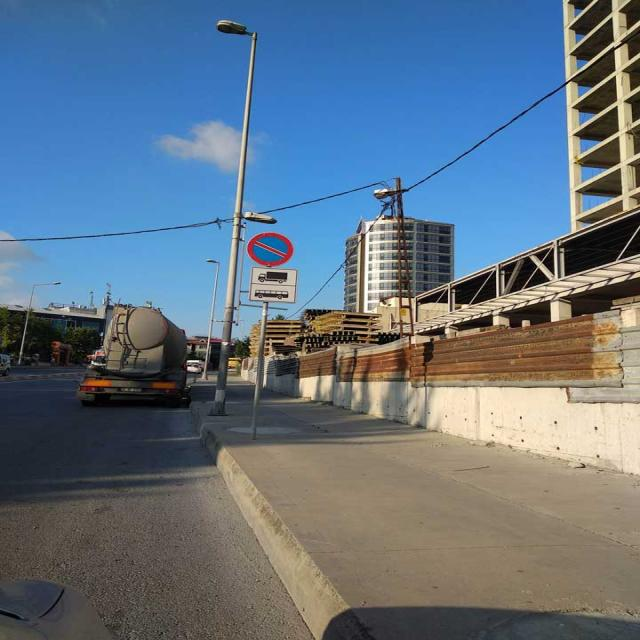parkyasak: (246, 232, 294, 266)
